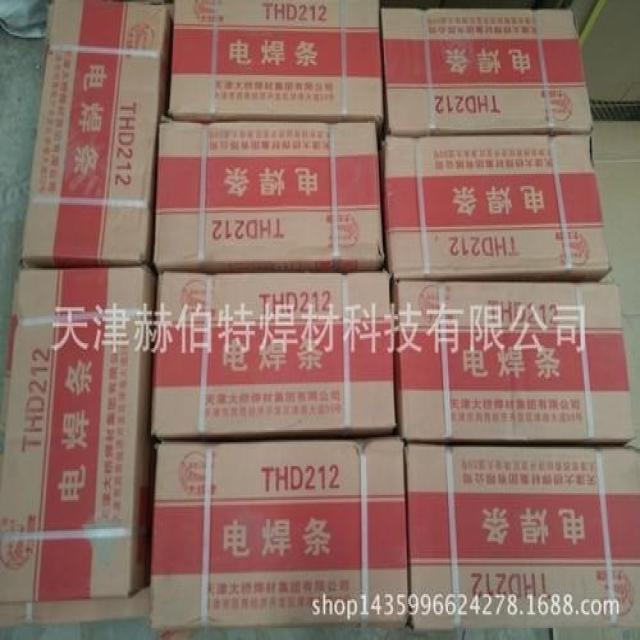box: (0, 265, 159, 603), (150, 434, 410, 630), (405, 443, 639, 629), (19, 1, 175, 270), (392, 277, 636, 448), (149, 266, 393, 434), (379, 135, 611, 284), (154, 119, 385, 268), (380, 8, 592, 132), (171, 2, 384, 118), (1, 579, 154, 624)
